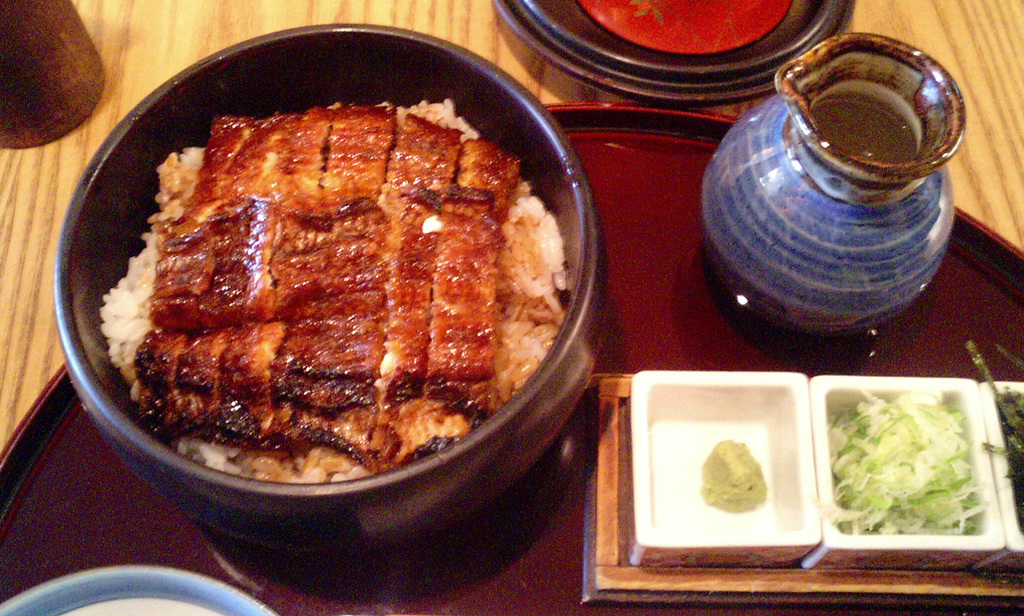person: (0, 0, 109, 156)
